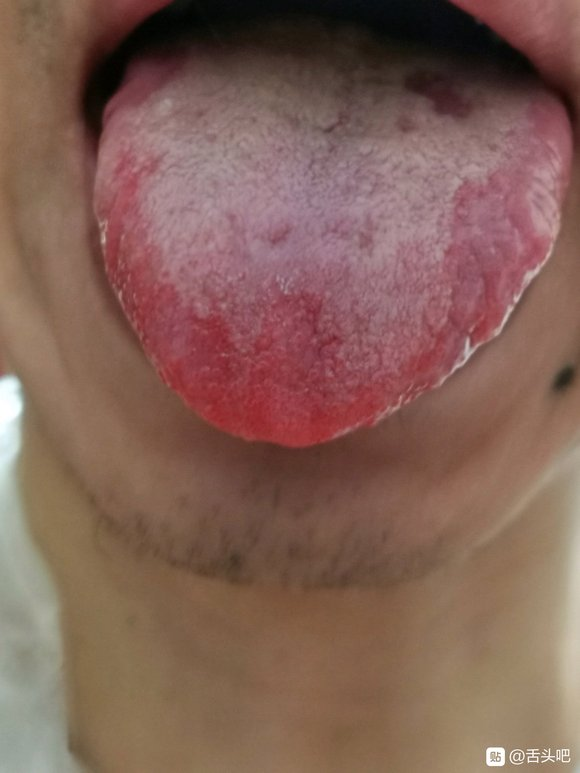baitaishe: (93, 33, 573, 447)
botaishe: (424, 162, 553, 356), (99, 141, 172, 335), (392, 58, 484, 128)
hongshe: (93, 33, 573, 447)
